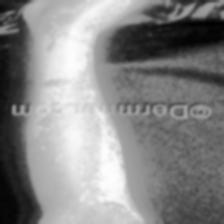Non-Cancerous Skin Condition: (26, 117, 142, 224), (23, 0, 143, 101)
